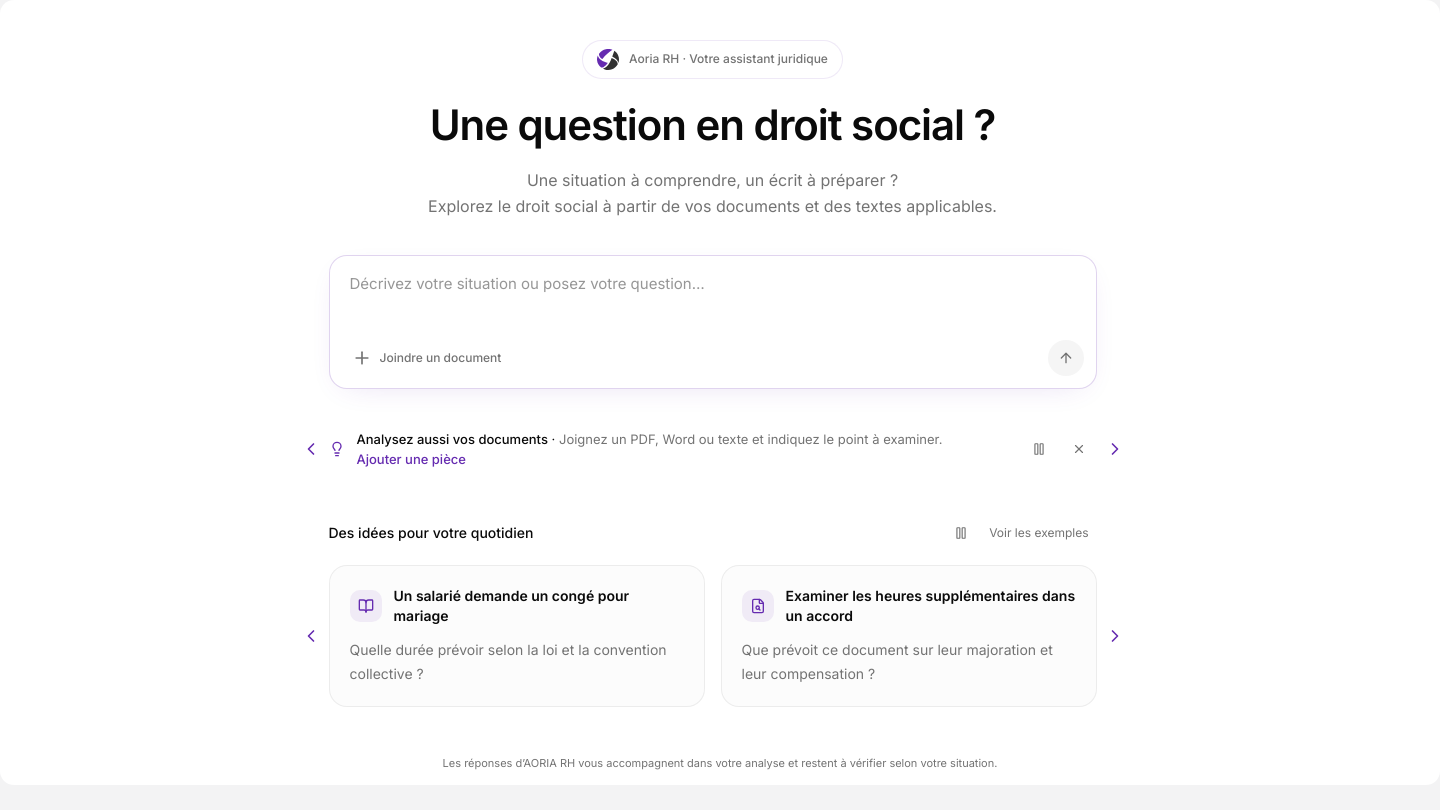
it: pauses and resumes cards without pausing tips
This screenshot has width=1440, height=810.
Click the button named "Mettre en pause les idées".
click(961, 533)  # box left=945, top=517, right=977, bottom=549
Wait 30000 ms
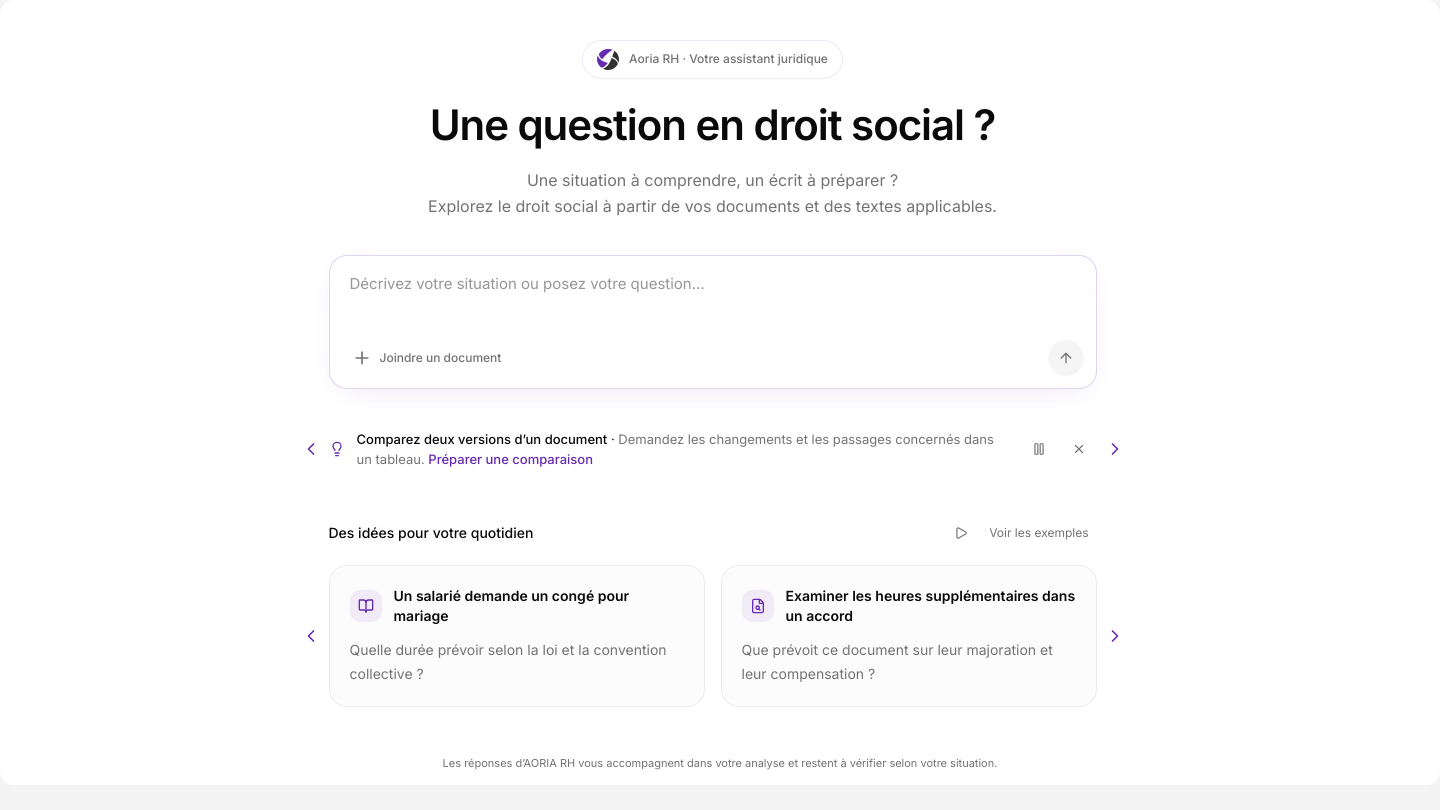
Expected: the element named "Idées et conseils" shows "Comparez deux versions", left=356, top=431, right=607, bottom=447
Click the button named "Reprendre le défilement des idées".
click(961, 533)  # box left=945, top=517, right=977, bottom=549
Wait 5000 ms
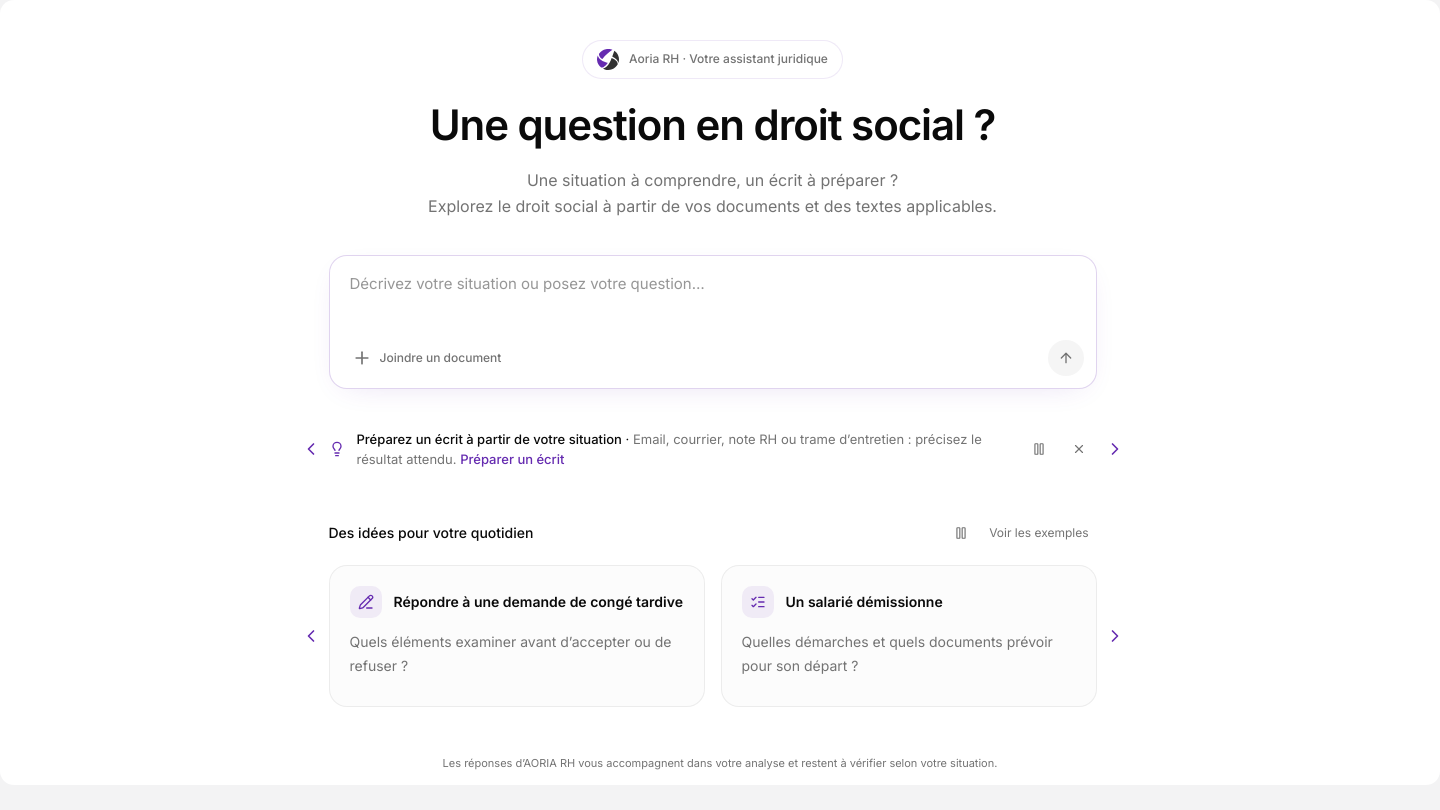
Expected: the element named "Idées et conseils" shows "Préparez un écrit", left=356, top=431, right=622, bottom=447
